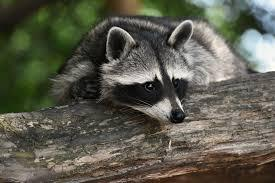raccoon: (30, 3, 265, 138)
